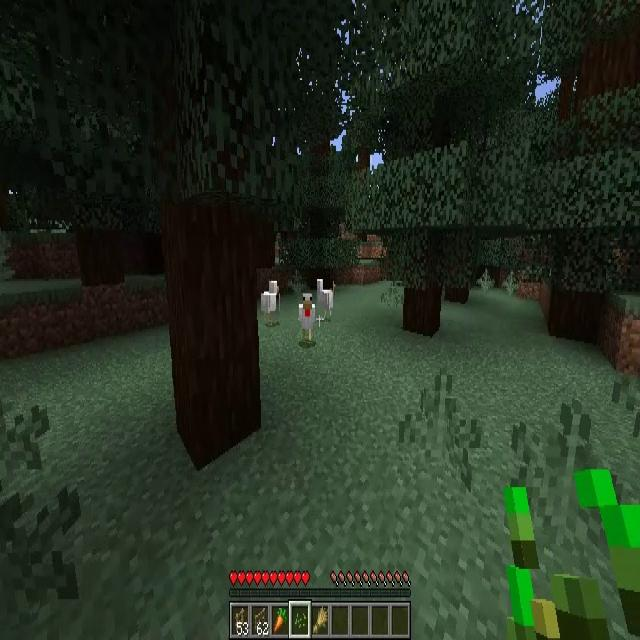duck: (298, 294, 316, 342), (261, 278, 279, 321), (317, 279, 333, 315)
